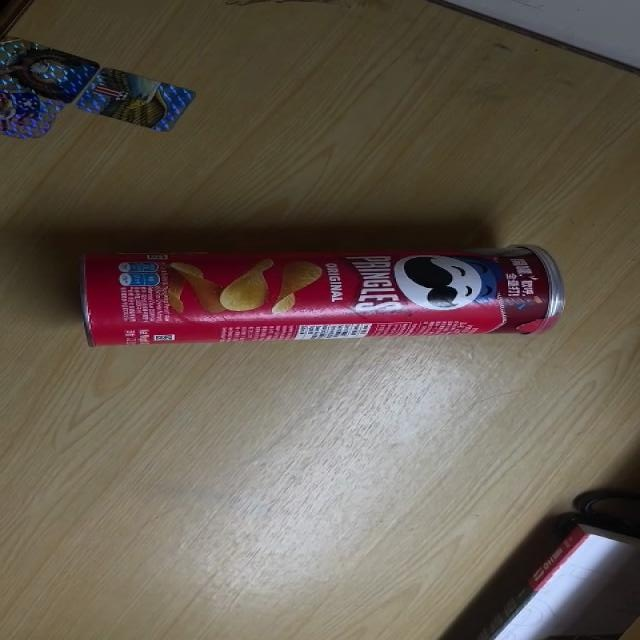Pringles: (79, 242, 568, 347)
